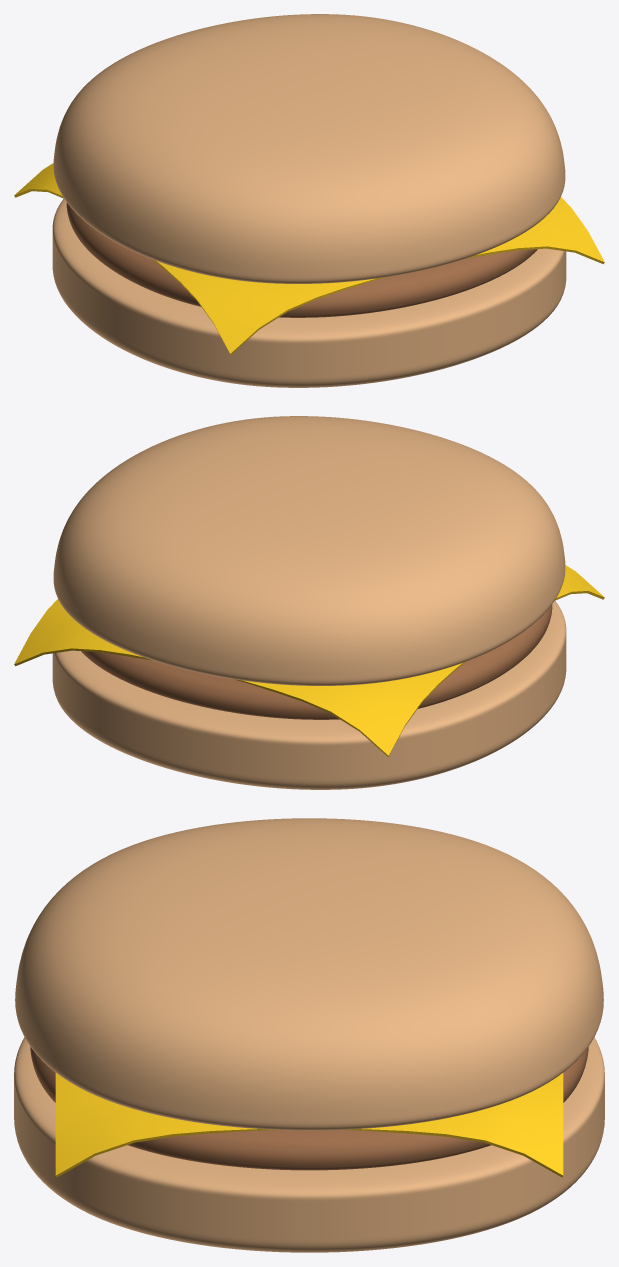
File: burger.glb
3 renders of one model, top to bottom at view 1: azimuth 30°, elevation 25°; view 2: azimuth 150°, elevation 25°; view 3: azimuth 270°, elevation 25°, orthographic. The views are drawn at different scales.
Parts seen in each view (by area): view 1: Cube.002, Cube, Plane, Cube.001; view 2: Cube.002, Cube, Plane, Cube.001; view 3: Cube.002, Cube, Plane, Cube.001.
Part boxes in pixels (x1,y1,x2,y2): Cube.002: (53, 14, 565, 283); Cube: (52, 199, 566, 387); Plane: (14, 163, 604, 354); Cube.001: (66, 202, 537, 317); Cube.002: (53, 416, 565, 685); Cube: (52, 601, 566, 789); Plane: (14, 565, 604, 756); Cube.001: (81, 604, 552, 719); Cube.002: (15, 818, 603, 1130); Cube: (14, 1037, 604, 1252); Plane: (55, 1073, 563, 1177); Cube.001: (30, 1047, 588, 1170).
Bounding box in the file's own units: 9.17 × 4.35 × 9.17.
